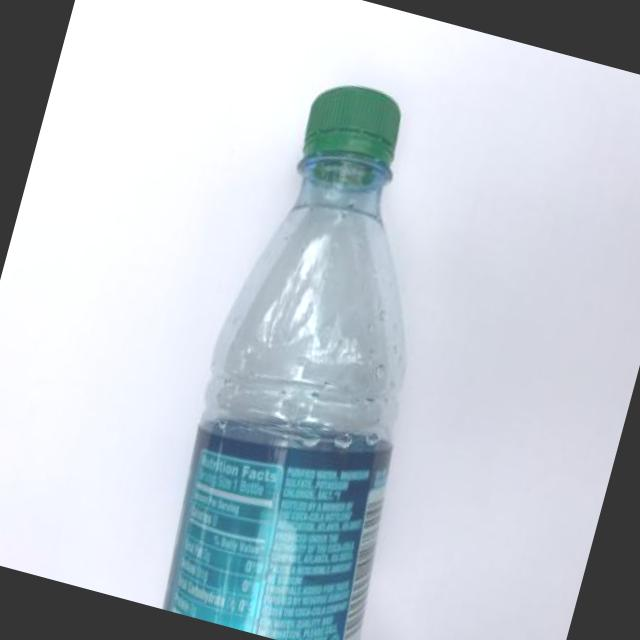Recycle: (144, 64, 499, 640)
